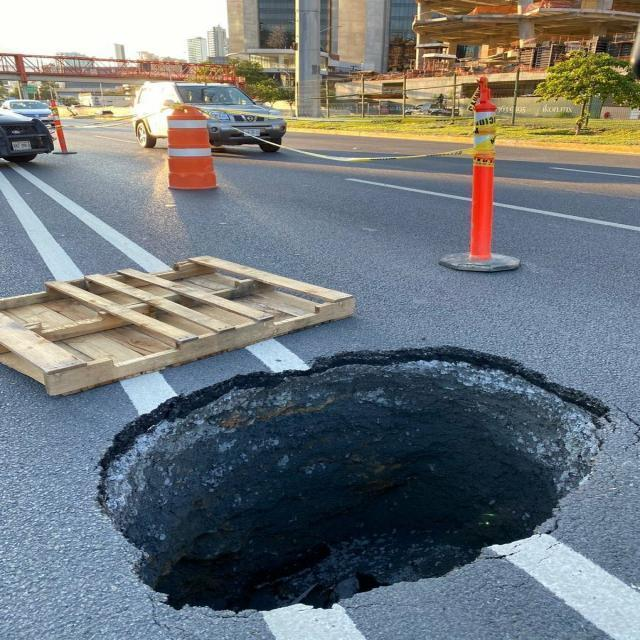pothole: (57, 337, 629, 634)
